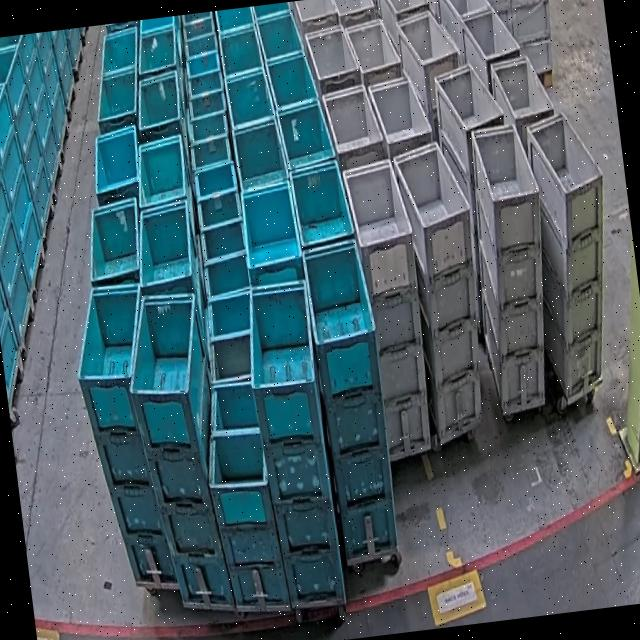4G: (516, 104, 630, 400), (390, 138, 499, 442), (458, 120, 566, 414), (340, 156, 440, 459)
B4: (118, 286, 239, 618), (237, 276, 347, 609), (66, 281, 178, 594), (300, 238, 404, 562)
B8: (196, 376, 292, 613)
